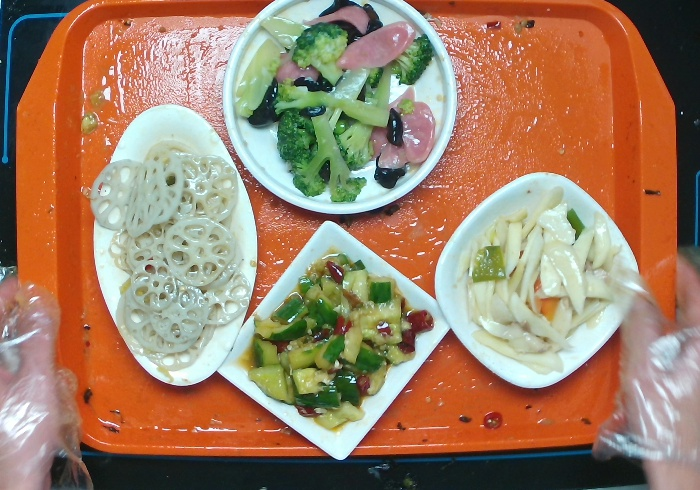HZYJPL-Si_Fang_Die: (218, 219, 451, 457)
HZYJPL-Si_Fang_Yuan_Die: (431, 170, 646, 392)
HZYJPL-Xiao_Yu_Die: (97, 103, 260, 395)
HZYJPL-Xiao_Yuan_Die: (223, 1, 461, 225)
